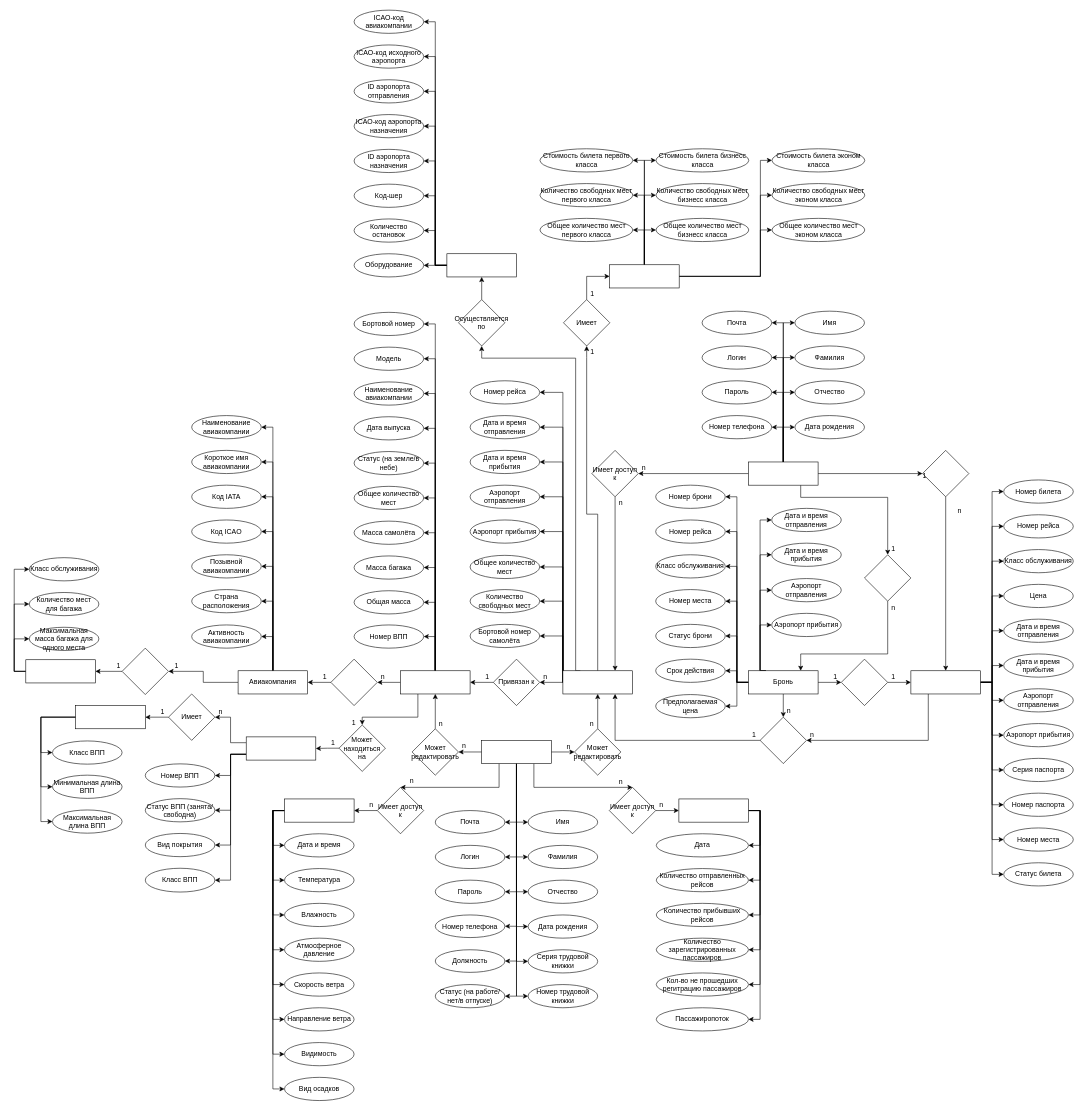
This 1083x1111 diagram has some shape labels left out. Each missing label, with the box of its shape:
Билет: (910, 670, 980, 694)
ВПП (взлётно-посадочная полоса): (246, 736, 316, 760)
Классификация: (75, 705, 145, 729)
Маршрут: (446, 253, 516, 277)
Места: (609, 264, 679, 288)
Метеопрогноз: (284, 798, 354, 822)
Может взять/отменить: (864, 554, 911, 601)
Может купить: (922, 450, 969, 497)
Можно преобразовать в: (841, 659, 888, 706)
Персонал: (481, 740, 551, 764)
Пользователь: (748, 461, 818, 485)
Правила по перевозке багажа: (25, 659, 95, 683)
Привязан(а) к: (760, 717, 806, 764)
Принадлежит: (330, 659, 377, 706)
Рейс: (562, 670, 632, 694)
Самолёт: (400, 670, 470, 694)
Статистические данные о пассажирах: (678, 798, 748, 822)
Устанавливает: (122, 648, 168, 695)
